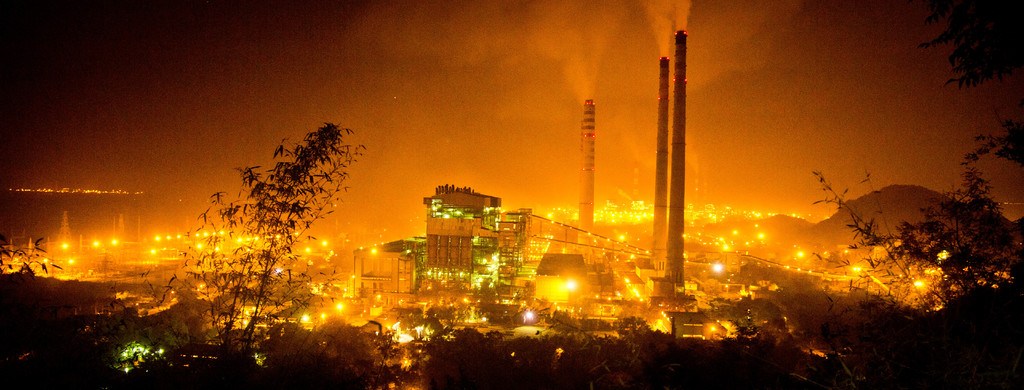Tree: (816, 0, 1024, 390), (108, 120, 366, 390)
